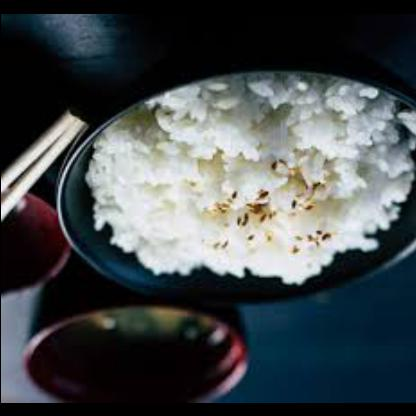white rice: (84, 72, 414, 284)
